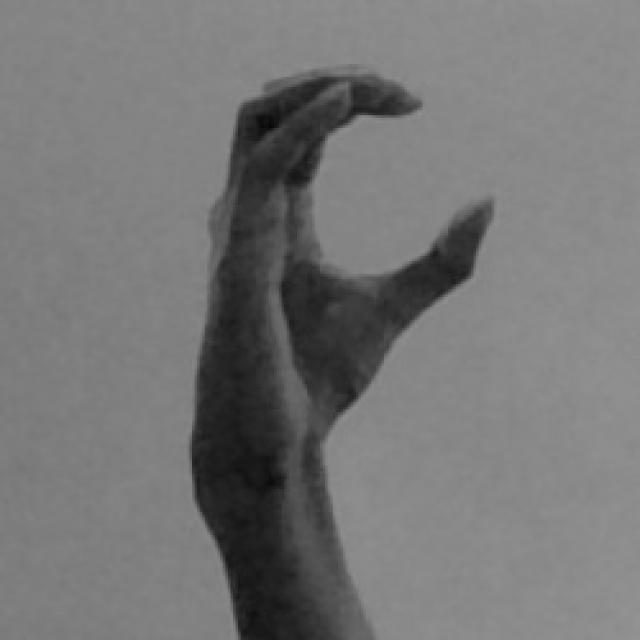C: (181, 63, 498, 640)
